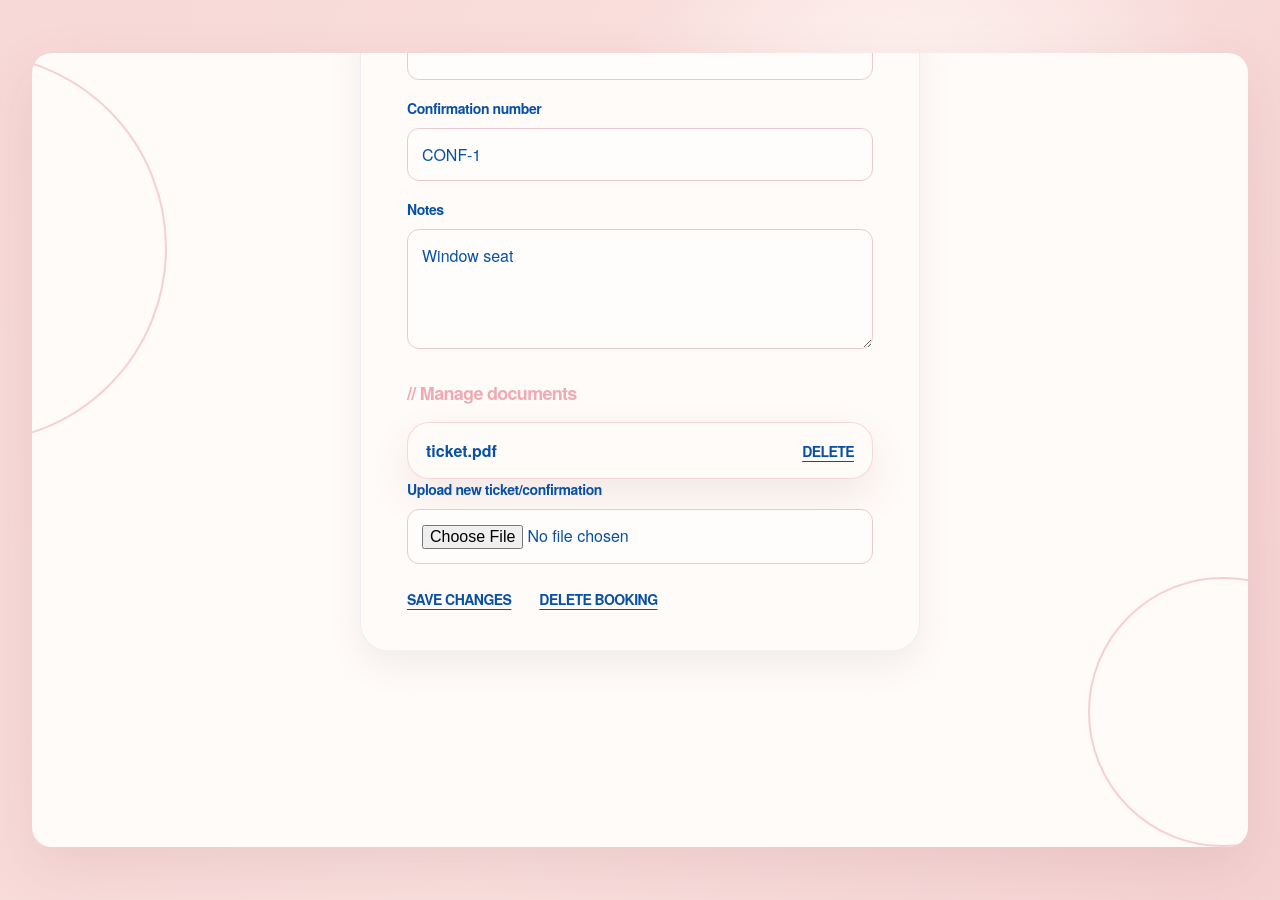
it: Booking UI flows › deletes an attached document from the edit booking page
(page scrolled)
Expected: the text "ticket.pdf" is shown, x1=426 y1=440 x2=497 y2=463
Click the button "DELETE" at (828,451), box x1=802 y1=444 x2=854 y2=458
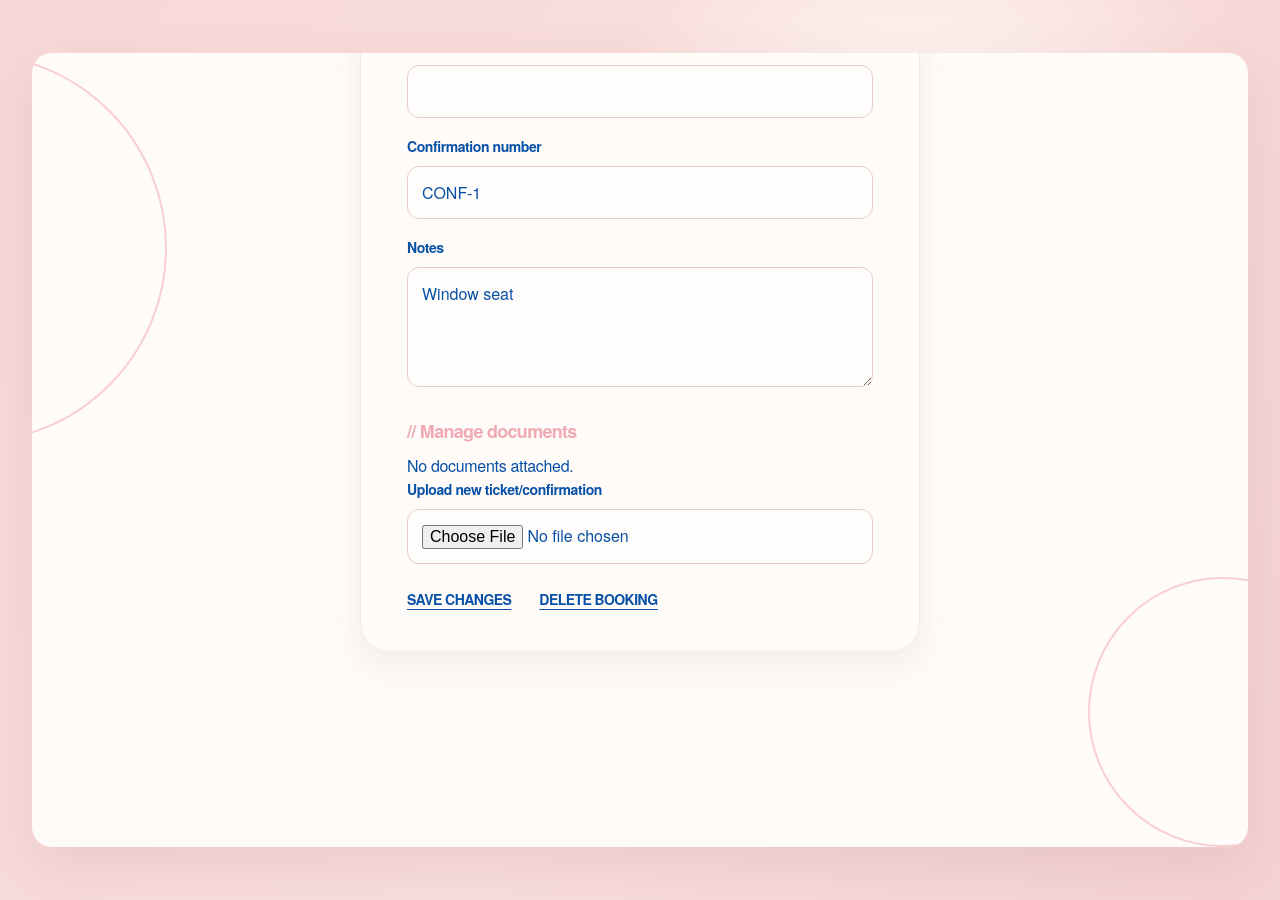
Expected: the text "ticket.pdf" is gone
Expected: the text "No documents attached." is shown, x1=407 y1=455 x2=573 y2=478
